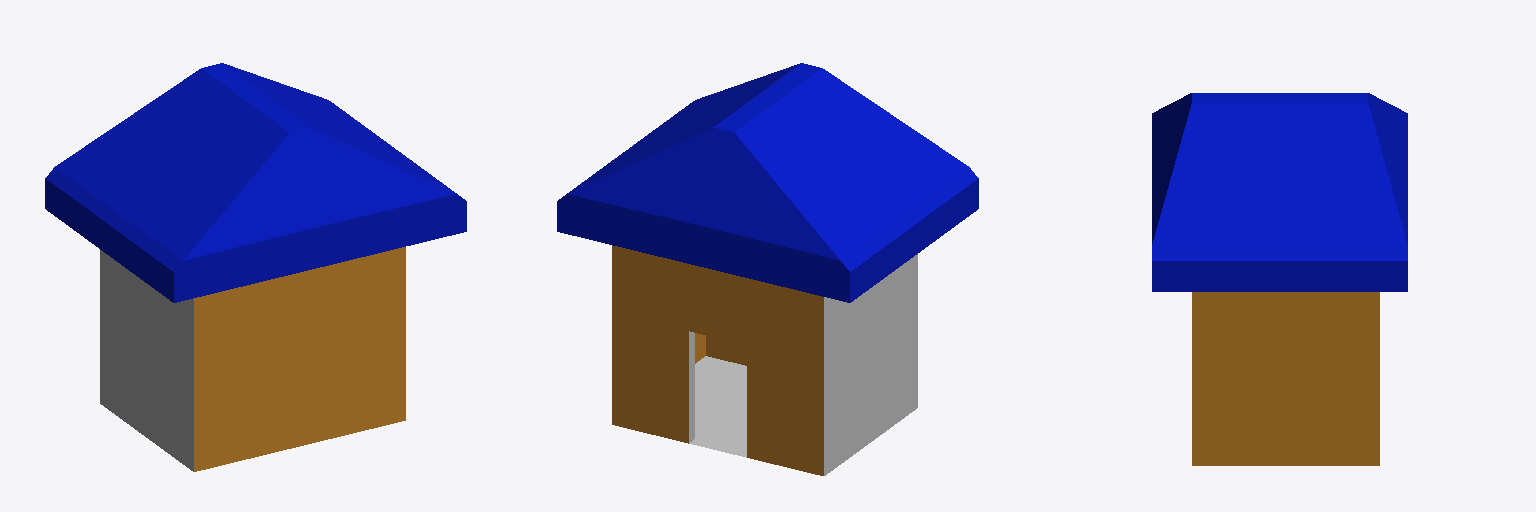
File: gudang.obj
3 renders of one model, left to right at view 1: azimuth 30°, elevation 25°; view 2: azimuth 150°, elevation 25°; view 3: azimuth 270°, elevation 25°, orthographic.
Parts seen in each view (by area): view 1: gudangPM3D_Cube3D1; view 2: gudangPM3D_Cube3D1; view 3: gudangPM3D_Cube3D1.
Boxes of the visible parts, box(x1,y1,x2,y2) form: gudangPM3D_Cube3D1: box(45, 63, 466, 471); gudangPM3D_Cube3D1: box(557, 63, 978, 475); gudangPM3D_Cube3D1: box(1152, 93, 1407, 465).
Size of the model in its own units: 4.32 by 4.46 by 3.28.